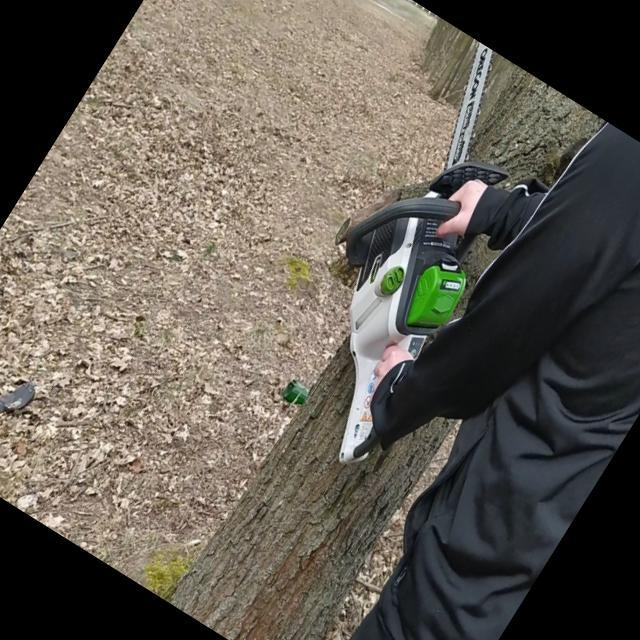Chainsaw: (233, 32, 596, 485)
